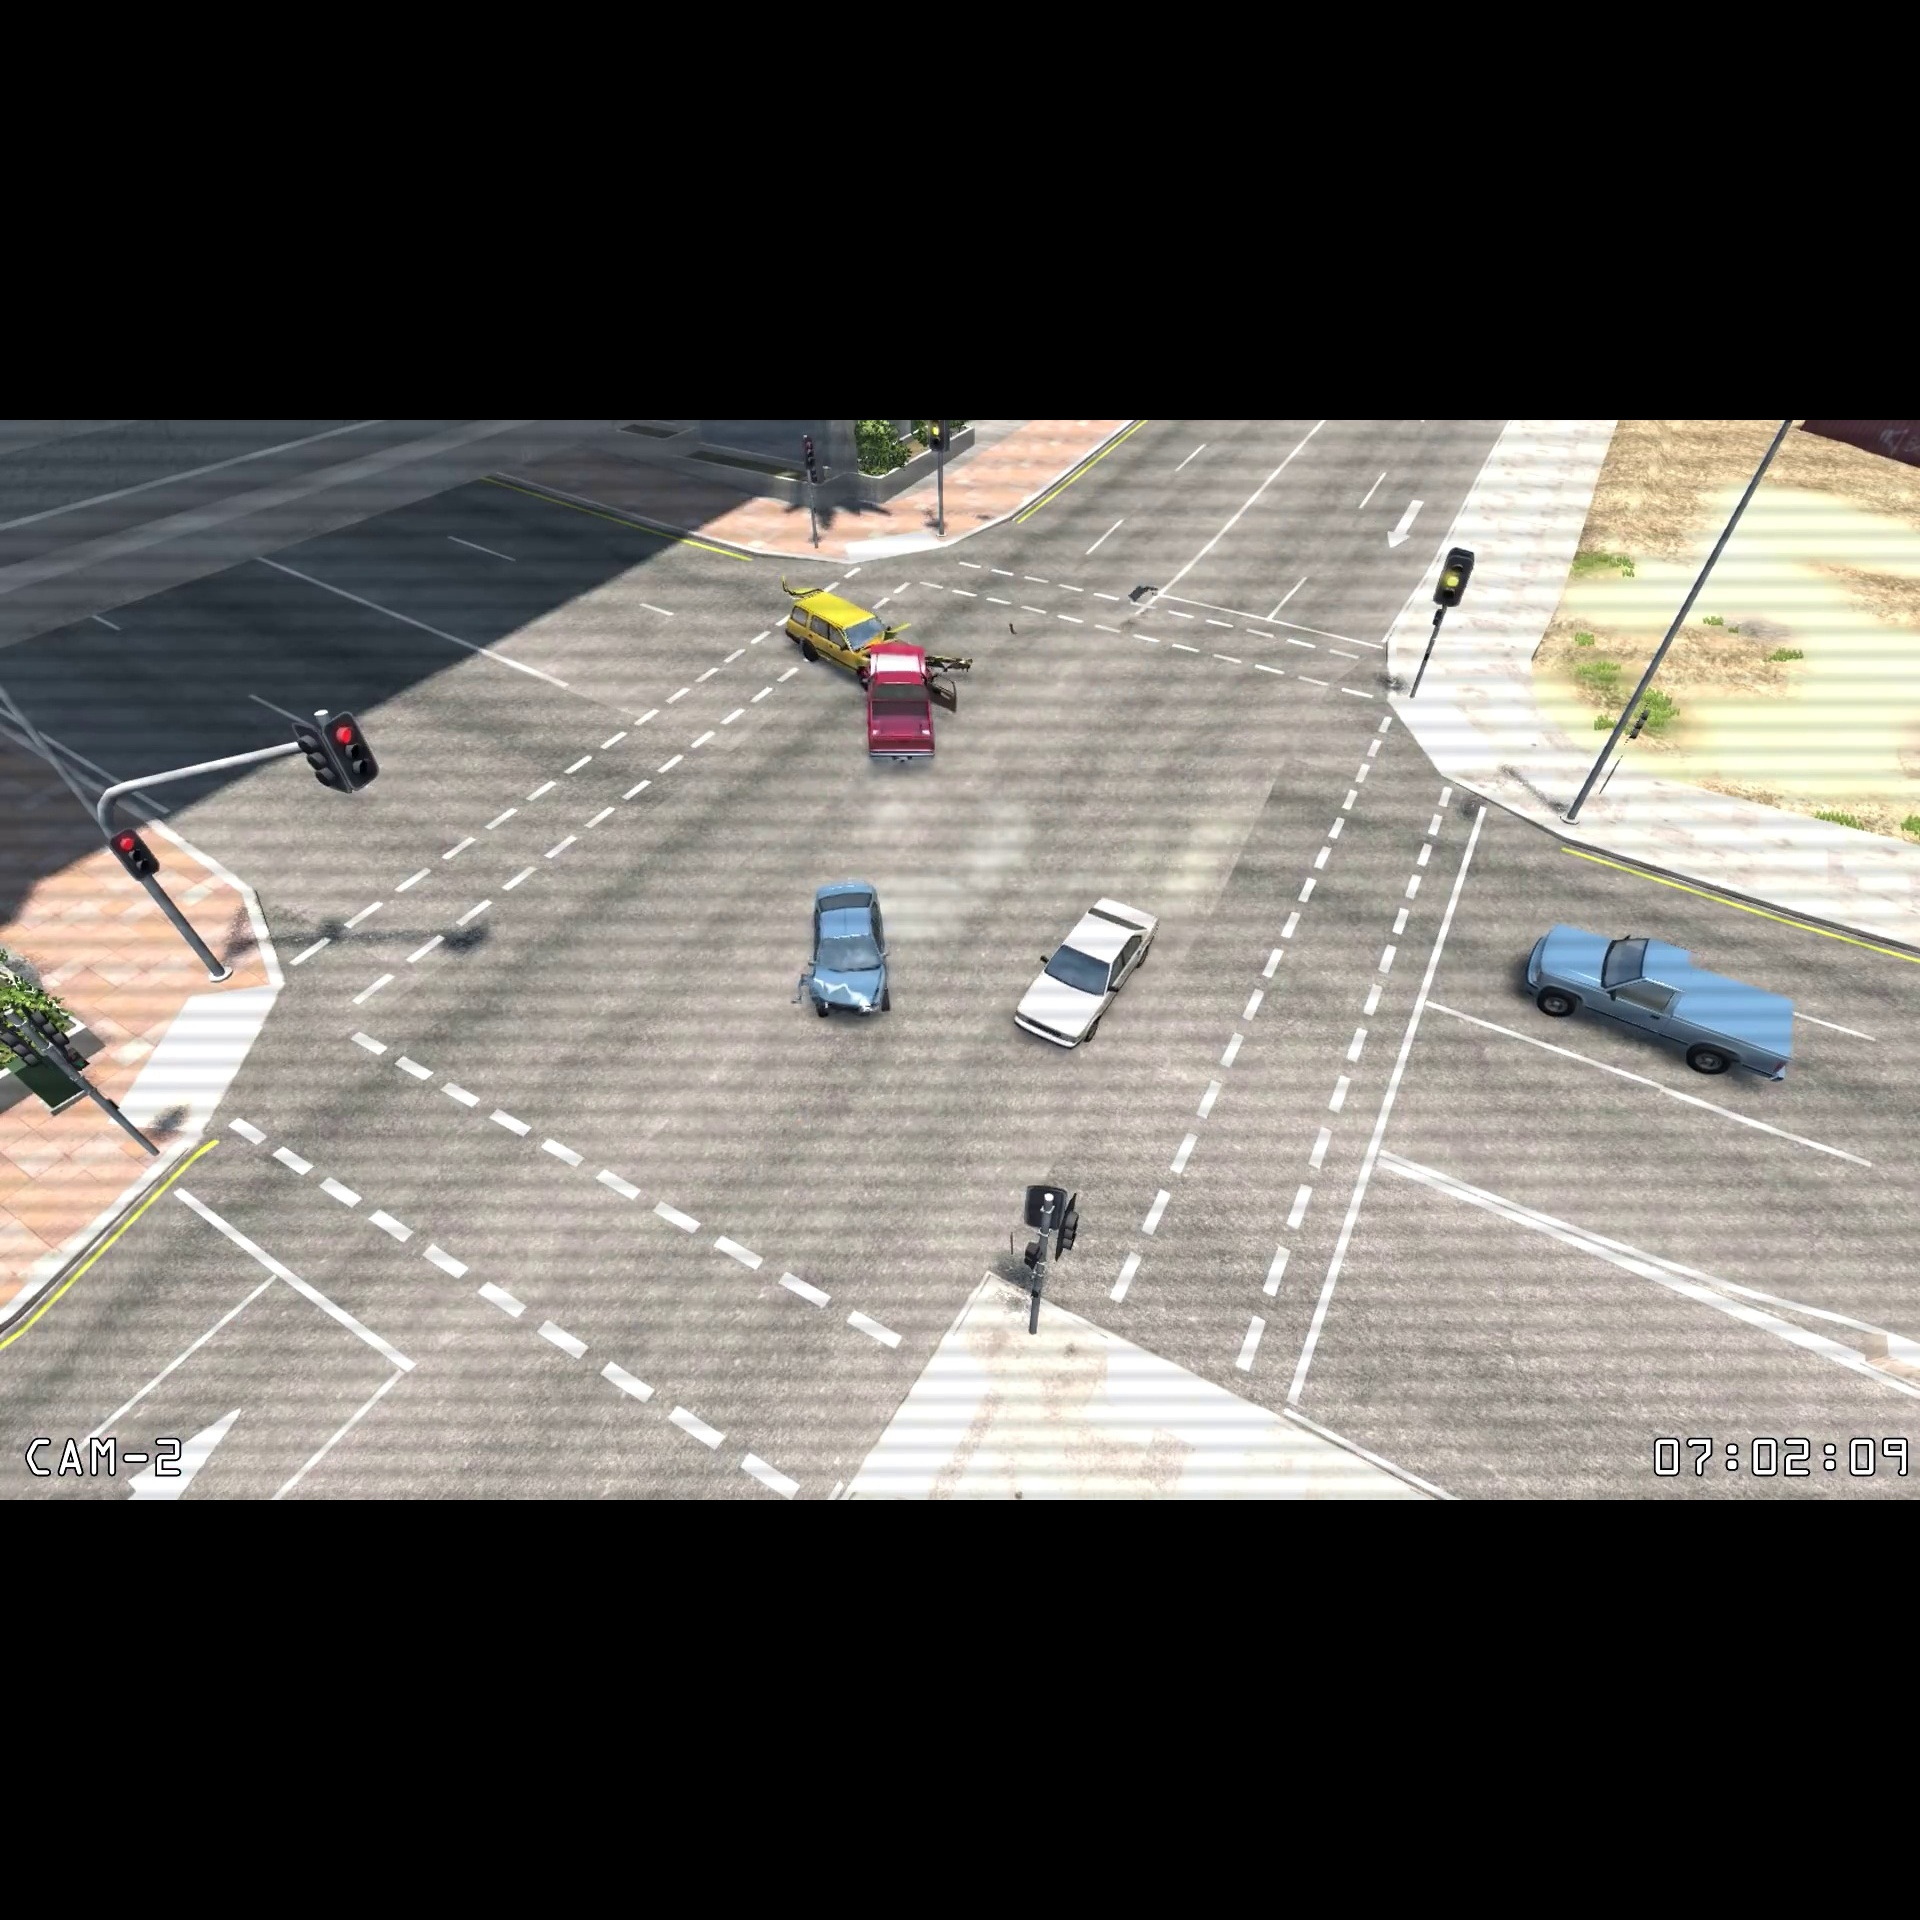vehicle: (1514, 913, 1800, 1088), (1009, 883, 1166, 1053), (789, 874, 900, 1023), (777, 577, 900, 682), (860, 636, 941, 770)
